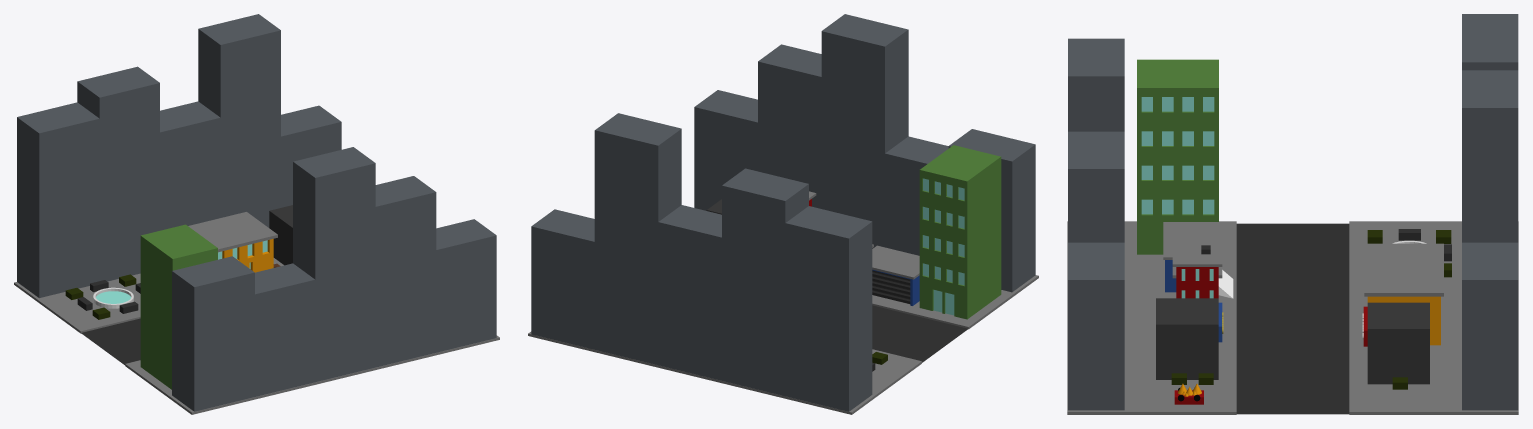
Rendered from TileSetEdificios.glb.
The picture shows the model from 3 angles, left to right: view 1: azimuth 30°, elevation 25°; view 2: azimuth 150°, elevation 25°; view 3: azimuth 270°, elevation 25°; orthographic projection. The views are drawn at different scales.
Visible parts, largest first — view 1: Cube.018, Cube.024, Cube.012, Piso, Cube.022, Plane, Piso.002, Cube.020, Cube.021; view 2: Cube.024, Cube.018, Cube.012, Plane, Piso, Plane.004, Piso.002, Cube.011, Plane.003; view 3: Cube.024, Plane, Cube.018, Cube.012, Piso.002, Piso, Cube.020, Cube.013, Cube.022, Plane.004, Cube.011, Cube.001 (+2 smaller).
Boxes of the visible parts, bbox=[...] form: Cube.018: bbox=[172, 147, 496, 411]; Cube.024: bbox=[17, 14, 341, 297]; Cube.012: bbox=[140, 224, 217, 389]; Piso: bbox=[14, 258, 283, 333]; Cube.022: bbox=[188, 212, 277, 252]; Plane: bbox=[81, 318, 140, 365]; Piso.002: bbox=[125, 335, 499, 414]; Cube.020: bbox=[269, 205, 292, 265]; Cube.021: bbox=[222, 239, 273, 272]; Cube.024: bbox=[531, 113, 872, 411]; Cube.018: bbox=[694, 14, 1035, 292]; Cube.012: bbox=[919, 145, 1001, 319]; Plane: bbox=[872, 305, 968, 362]; Piso: bbox=[528, 331, 921, 414]; Plane.004: bbox=[923, 178, 964, 315]; Piso.002: bbox=[872, 275, 1038, 329]; Cube.011: bbox=[872, 245, 919, 279]; Plane.003: bbox=[872, 270, 910, 303]; Cube.024: bbox=[1462, 14, 1518, 410]; Plane: bbox=[1236, 223, 1349, 414]; Cube.018: bbox=[1068, 38, 1124, 410]; Cube.012: bbox=[1137, 59, 1218, 254]; Piso.002: bbox=[1067, 221, 1236, 414]; Piso: bbox=[1349, 221, 1518, 414]; Cube.020: bbox=[1367, 302, 1429, 384]; Cube.013: bbox=[1156, 298, 1218, 379]; Cube.022: bbox=[1364, 243, 1443, 296]; Plane.004: bbox=[1141, 97, 1214, 214]; Cube.011: bbox=[1163, 222, 1220, 259]; Cube.001: bbox=[1172, 241, 1222, 266].
Bounding box in the file's own units: 6.05 × 4.06 × 6.05.
